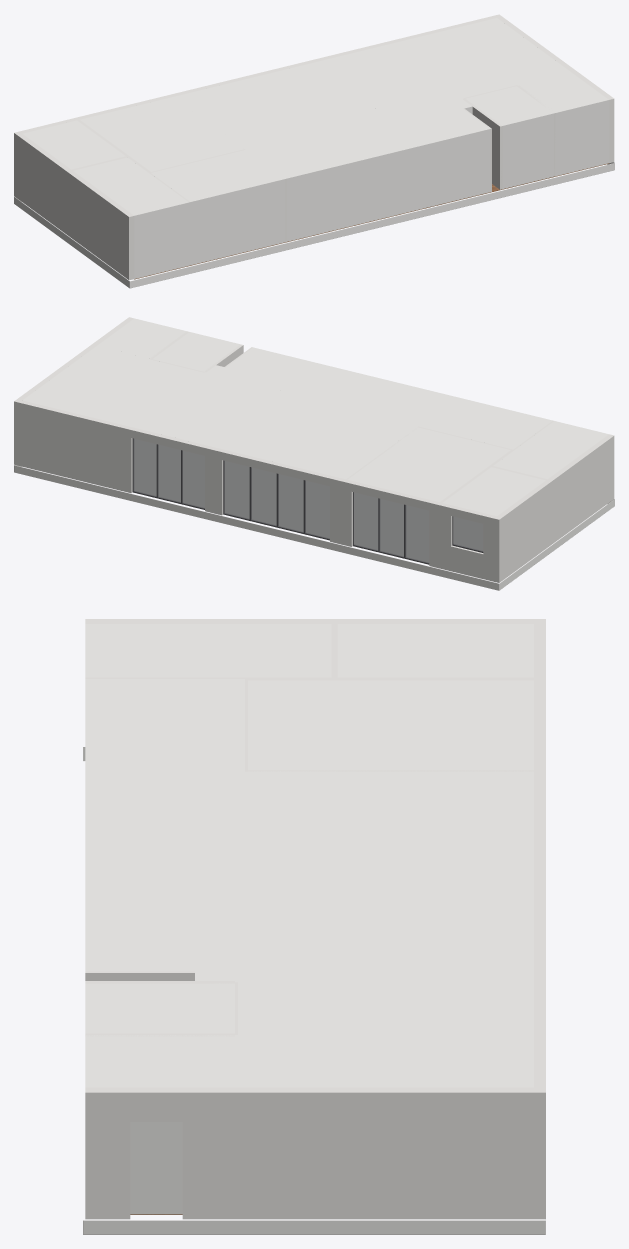
File: apartment.glb
The picture shows the model from 3 angles, top to bottom: view 1: azimuth 30°, elevation 25°; view 2: azimuth 150°, elevation 25°; view 3: azimuth 270°, elevation 25°; orthographic projection. The views are drawn at different scales.
Visible parts, largest first — view 1: room:Living, room:Study, Left wall 0, room:Kitchen, room:Walk-in wardrobe, room:Master bedroom, room:Dining, room:Laundry, room:Entry, room:Powder room, Slab, room:Ensuite (+6 smaller); view 2: room:Living, room:Master bedroom, room:Dining, room:Kitchen, Back wall end, Left wall 0, Glass 2, Slab, room:Study, Glass 1, Glass 3, room:Ensuite (+14 smaller); view 3: room:Living, Right wall 2, room:Kitchen, room:Master bedroom, room:Dining, room:Study, room:Walk-in wardrobe, room:Entry, room:Ensuite, room:Powder room, room:Laundry, Slab (+8 smaller).
Part boxes in pixels (bbox=[...]): room:Living: bbox=[173, 62, 425, 241]; room:Study: bbox=[151, 150, 285, 265]; Left wall 0: bbox=[17, 134, 134, 280]; room:Kitchen: bbox=[389, 18, 571, 98]; room:Walk-in wardrobe: bbox=[73, 157, 190, 278]; room:Master bedroom: bbox=[80, 97, 244, 171]; room:Dining: bbox=[314, 44, 472, 124]; room:Laundry: bbox=[399, 109, 490, 207]; room:Entry: bbox=[519, 72, 609, 176]; room:Powder room: bbox=[465, 86, 555, 188]; Slab: bbox=[14, 162, 614, 288]; room:Ensuite: bbox=[22, 120, 125, 169]; room:Living: bbox=[206, 363, 457, 538]; room:Master bedroom: bbox=[347, 427, 510, 562]; room:Dining: bbox=[130, 365, 289, 507]; room:Kitchen: bbox=[22, 346, 203, 426]; Back wall end: bbox=[14, 399, 133, 493]; Left wall 0: bbox=[497, 434, 614, 580]; Glass 2: bbox=[224, 461, 329, 538]; Slab: bbox=[14, 465, 614, 590]; room:Study: bbox=[418, 397, 552, 449]; Glass 1: bbox=[354, 492, 428, 562]; Glass 3: bbox=[134, 439, 204, 507]; room:Ensuite: bbox=[443, 467, 545, 550]; room:Living: bbox=[85, 771, 533, 908]; Right wall 2: bbox=[182, 1087, 533, 1219]; room:Kitchen: bbox=[235, 982, 533, 1087]; room:Master bedroom: bbox=[248, 680, 533, 771]; room:Dining: bbox=[195, 908, 533, 982]; room:Study: bbox=[85, 679, 244, 771]; room:Walk-in wardrobe: bbox=[85, 624, 331, 677]; room:Entry: bbox=[85, 1035, 234, 1214]; room:Ensuite: bbox=[337, 624, 533, 677]; room:Powder room: bbox=[85, 983, 234, 1033]; room:Laundry: bbox=[85, 908, 194, 971]; Slab: bbox=[83, 747, 545, 1234].
Size of the model in its own units: 22.48 by 3.15 by 9.29.
34 materials, 14 textured.
